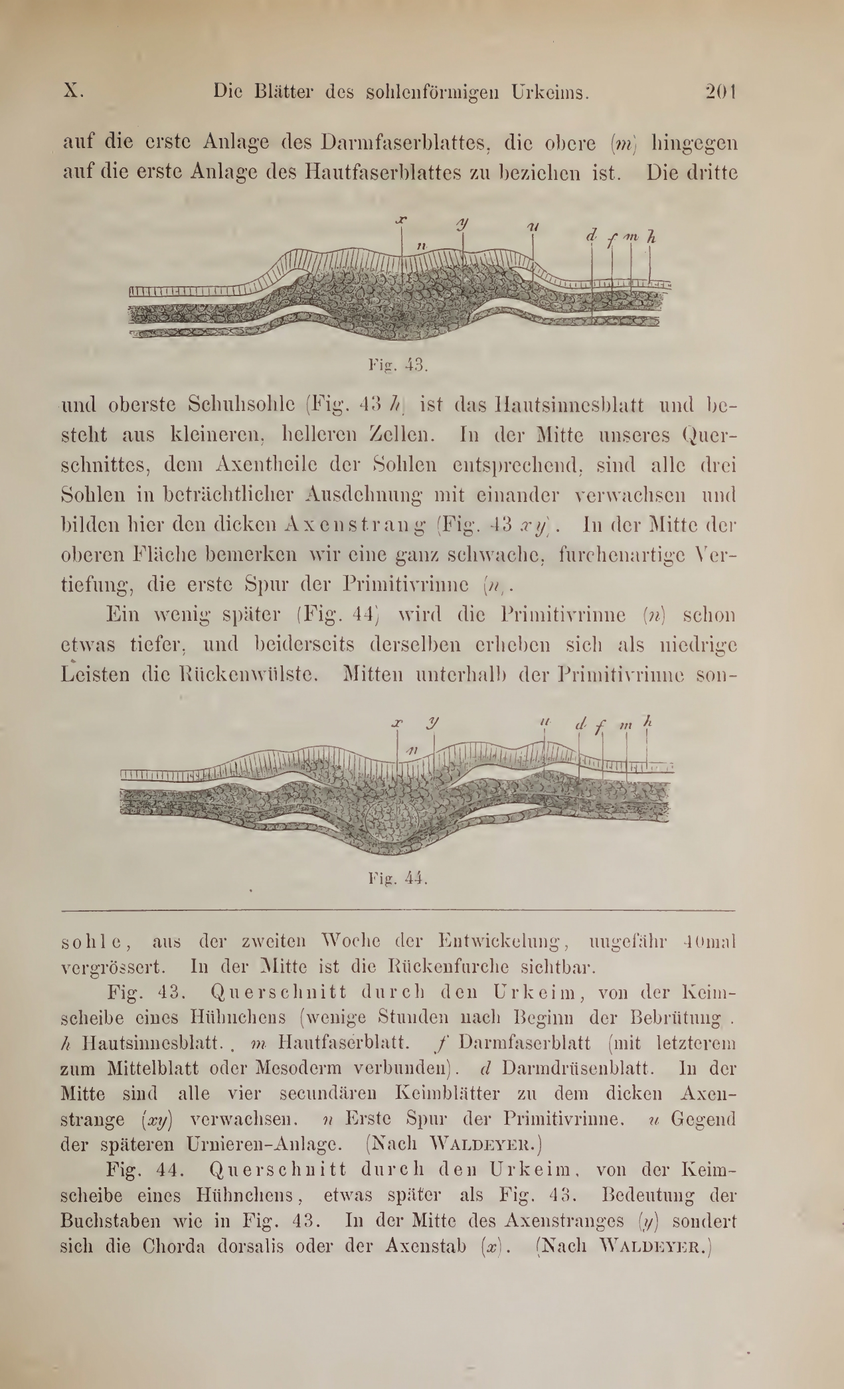GraphicZone_Description: (359, 865, 438, 896), (359, 348, 437, 376)
GraphicZone_Illustration: (101, 719, 689, 861), (118, 211, 680, 347)
MainZone: (49, 388, 752, 698), (52, 118, 755, 196)
MarginTextZone note: (45, 914, 758, 1284)
NumberingZone chapter: (54, 75, 94, 106)
NumberingZone_page: (695, 71, 754, 110)
RunningTitleZone: (204, 75, 599, 113)
